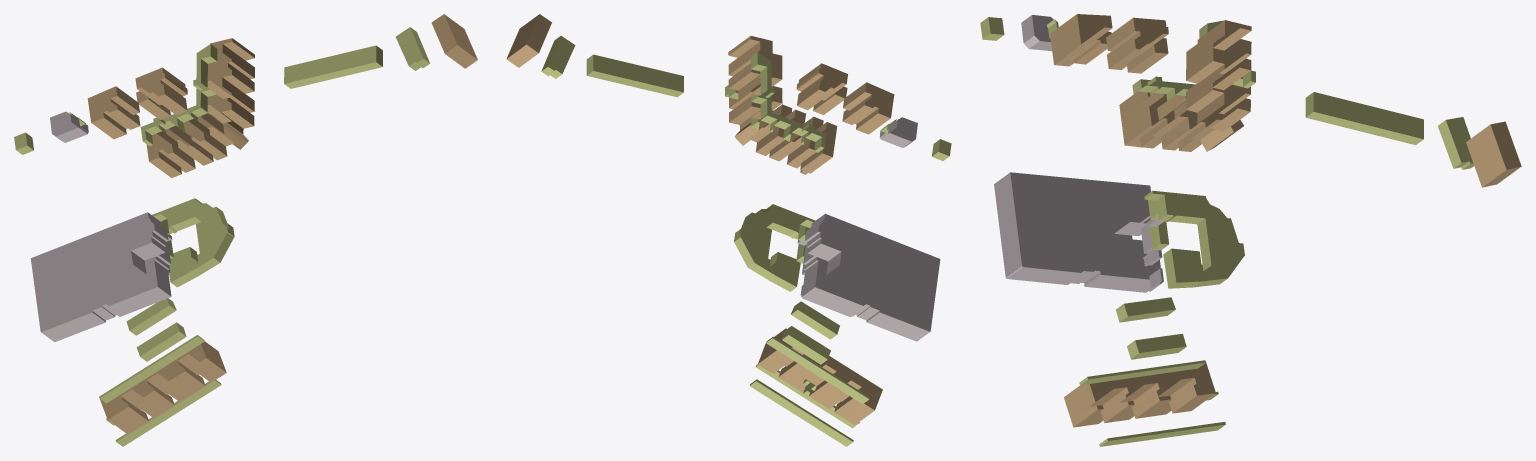
3 views of the same model, side by side, from view 1: azimuth 30°, elevation 25°; view 2: azimuth 150°, elevation 25°; view 3: azimuth 330°, elevation 25° (orthographic). The views are drawn at different scales.
Parts seen in each view (by area): view 1: 0_1_3_2_1_1; view 2: 0_1_3_2_1_1; view 3: 0_1_3_2_1_1.
Part boxes in pixels (bbox=[...]): 0_1_3_2_1_1: bbox=[14, 14, 477, 446]; 0_1_3_2_1_1: bbox=[506, 14, 951, 446]; 0_1_3_2_1_1: bbox=[980, 14, 1521, 446].
Size of the model in its own units: 339 by 272 by 31.6.
